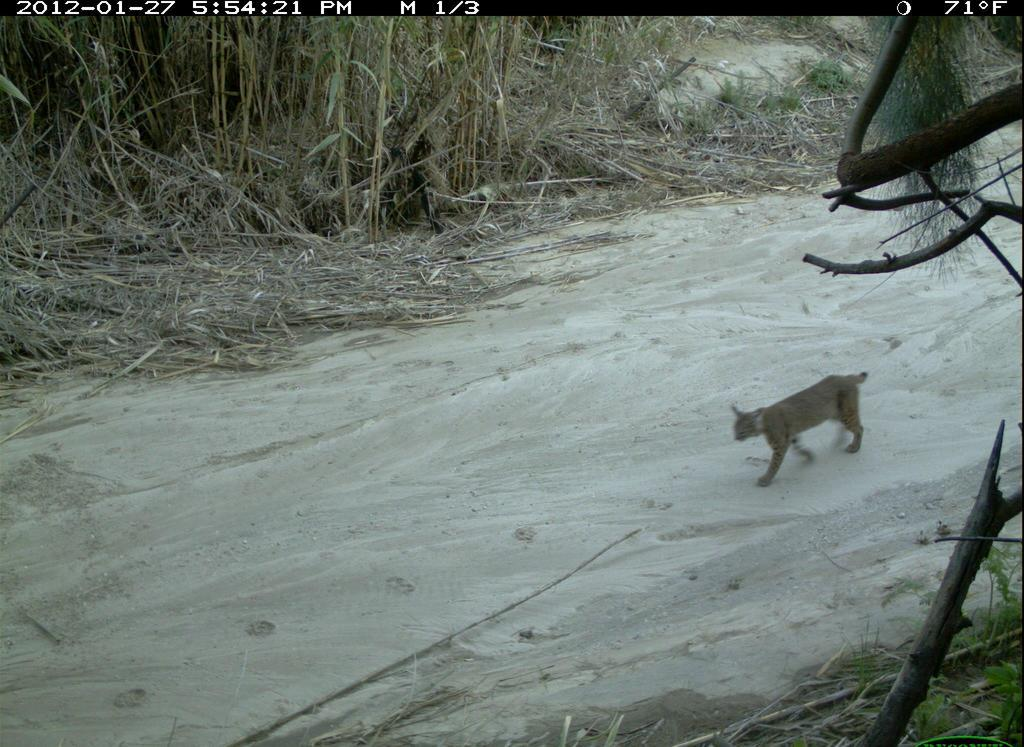bobcat: (728, 361, 884, 502)
